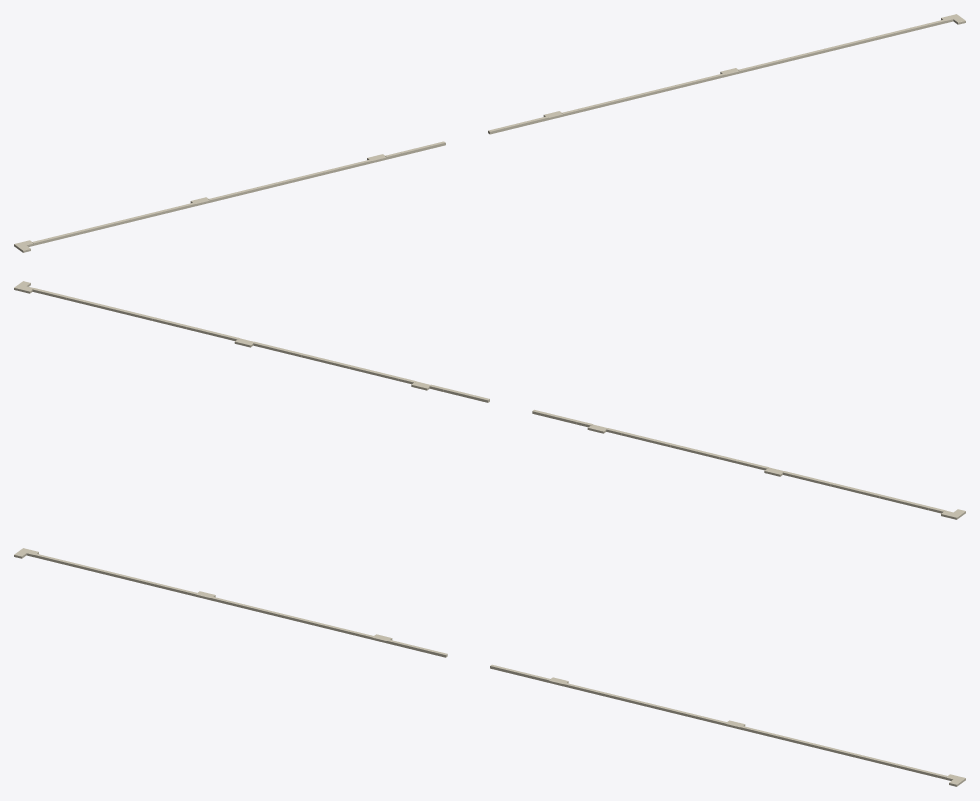
The model's file is port-hall-kerb.glb.
3 renders of one model, top to bottom at view 1: azimuth 30°, elevation 25°; view 2: azimuth 150°, elevation 25°; view 3: azimuth 330°, elevation 25°, orthographic.
Parts seen in each view (by area): view 1: PORT_Hall_Street_Kerb; view 2: PORT_Hall_Street_Kerb; view 3: PORT_Hall_Street_Kerb.
Part boxes in pixels (x1,y1,x2,y2): PORT_Hall_Street_Kerb: (14, 14, 965, 252); PORT_Hall_Street_Kerb: (14, 281, 965, 519); PORT_Hall_Street_Kerb: (14, 548, 965, 786).
Bounding box in the file's own units: 85.44 × 0.226 × 1.44.
